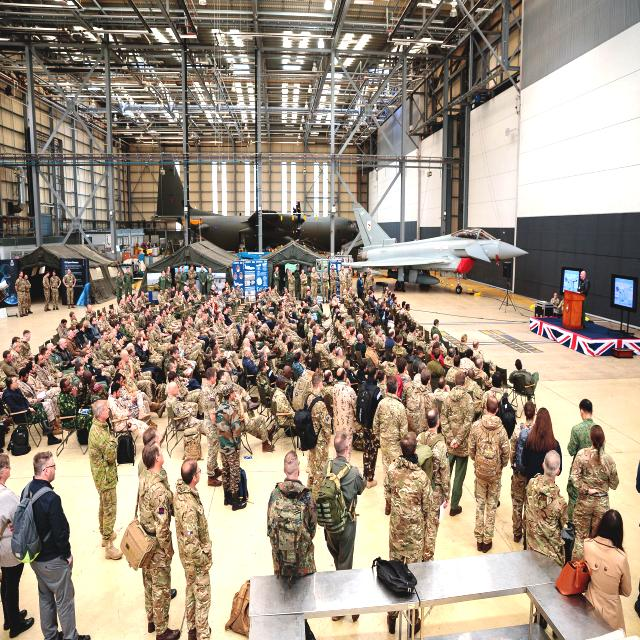Aircraft: (154, 153, 363, 257), (339, 202, 529, 294)
